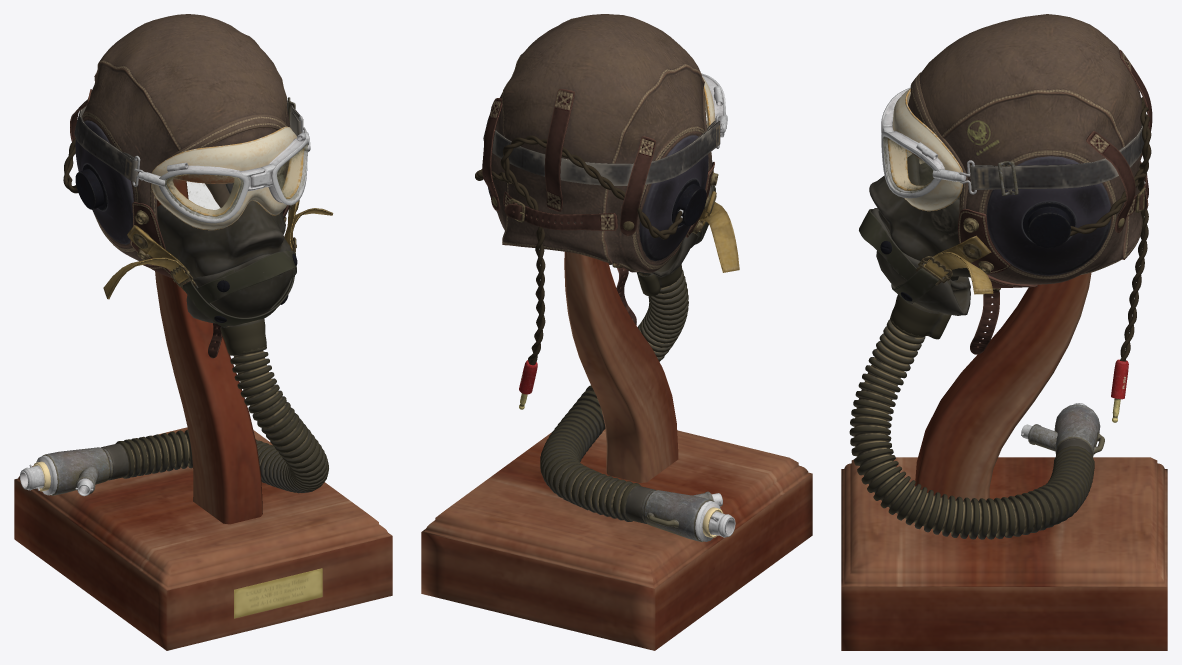
File: FlightHelmet.gltf
3 renders of one model, left to right at view 1: azimuth 30°, elevation 25°; view 2: azimuth 150°, elevation 25°; view 3: azimuth 270°, elevation 25°, orthographic. The views are drawn at different scales.
Visible parts, largest first — view 1: Plastic3_low, Plastic2_low, Leather1_low, Plastic1_low, Metal1_low, MaskPad_low, Headphones_low, Lenses_low, Metal3_low, Leather2_low, Leather3_low, Metal2_low; view 2: Plastic3_low, Leather1_low, Plastic2_low, Plastic1_low, Leather3_low, Headphones_low, Metal3_low, Metal1_low, Metal2_low; view 3: Plastic3_low, Leather1_low, Plastic2_low, Plastic1_low, Headphones_low, Metal1_low, Leather3_low, MaskPad_low, Leather2_low, Metal2_low, Metal3_low, Lenses_low.
Part boxes in pixels (x1=…): Plastic3_low: x1=14, y1=254, x2=392, y2=650; Plastic2_low: x1=74, y1=100, x2=303, y2=524; Leather1_low: x1=82, y1=14, x2=290, y2=264; Plastic1_low: x1=63, y1=138, x2=333, y2=493; Metal1_low: x1=29, y1=97, x2=322, y2=618; MaskPad_low: x1=151, y1=126, x2=304, y2=230; Headphones_low: x1=75, y1=120, x2=280, y2=244; Lenses_low: x1=165, y1=144, x2=307, y2=218; Metal3_low: x1=20, y1=164, x2=275, y2=495; Leather2_low: x1=150, y1=114, x2=287, y2=358; Leather3_low: x1=70, y1=89, x2=289, y2=282; Metal2_low: x1=75, y1=131, x2=310, y2=496; Plastic3_low: x1=421, y1=186, x2=812, y2=650; Leather1_low: x1=491, y1=14, x2=711, y2=272; Plastic2_low: x1=475, y1=114, x2=720, y2=482; Plastic1_low: x1=500, y1=135, x2=739, y2=521; Leather3_low: x1=482, y1=89, x2=714, y2=256; Headphones_low: x1=487, y1=135, x2=708, y2=261; Metal3_low: x1=519, y1=212, x2=735, y2=541; Metal1_low: x1=492, y1=73, x2=725, y2=537; Metal2_low: x1=510, y1=86, x2=727, y2=506; Plastic3_low: x1=841, y1=208, x2=1167, y2=650; Leather1_low: x1=919, y1=14, x2=1142, y2=284; Plastic2_low: x1=859, y1=125, x2=1146, y2=501; Plastic1_low: x1=849, y1=97, x2=1151, y2=539; Headphones_low: x1=986, y1=156, x2=1110, y2=275; Metal1_low: x1=880, y1=87, x2=1144, y2=456; Leather3_low: x1=908, y1=50, x2=1152, y2=287; MaskPad_low: x1=887, y1=88, x2=962, y2=211; Leather2_low: x1=910, y1=72, x2=999, y2=354; Metal2_low: x1=883, y1=114, x2=1146, y2=451; Metal3_low: x1=883, y1=126, x2=1100, y2=457; Lenses_low: x1=883, y1=136, x2=933, y2=193.
Bounding box in the file's own units: 3.43 × 6.69 × 3.47.
Materials: 5 (5 with a texture image).
